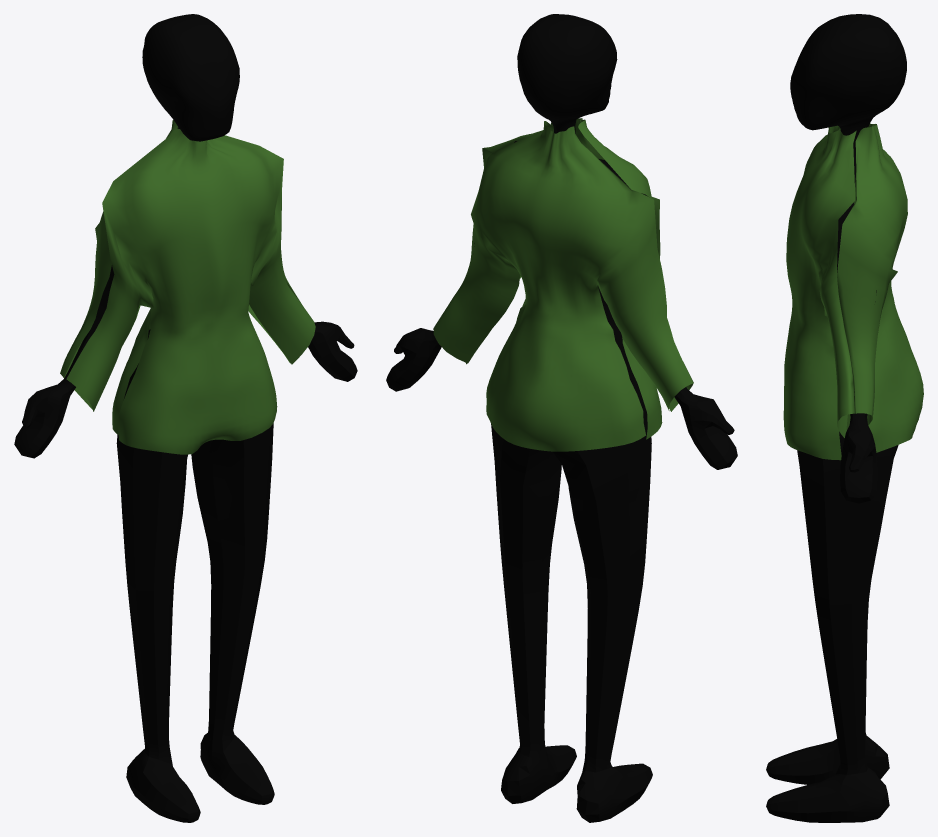
File: Desvariado Character.fbx
3 views of the same model, side by side, from view 1: azimuth 30°, elevation 25°; view 2: azimuth 150°, elevation 25°; view 3: azimuth 270°, elevation 25° (orthographic). The views are drawn at different scales.
Parts seen in each view (by area): view 1: Plano.001, Plano; view 2: Plano.001, Plano; view 3: Plano, Plano.001.
Boxes of the visible parts, x1,y1,x2,y2 form: Plano.001: [60, 120, 315, 454]; Plano: [14, 14, 357, 822]; Plano.001: [433, 118, 693, 451]; Plano: [386, 14, 737, 822]; Plano: [766, 14, 906, 822]; Plano.001: [783, 123, 923, 460].
Size of the model in its own units: 144 by 313 by 57.35.
